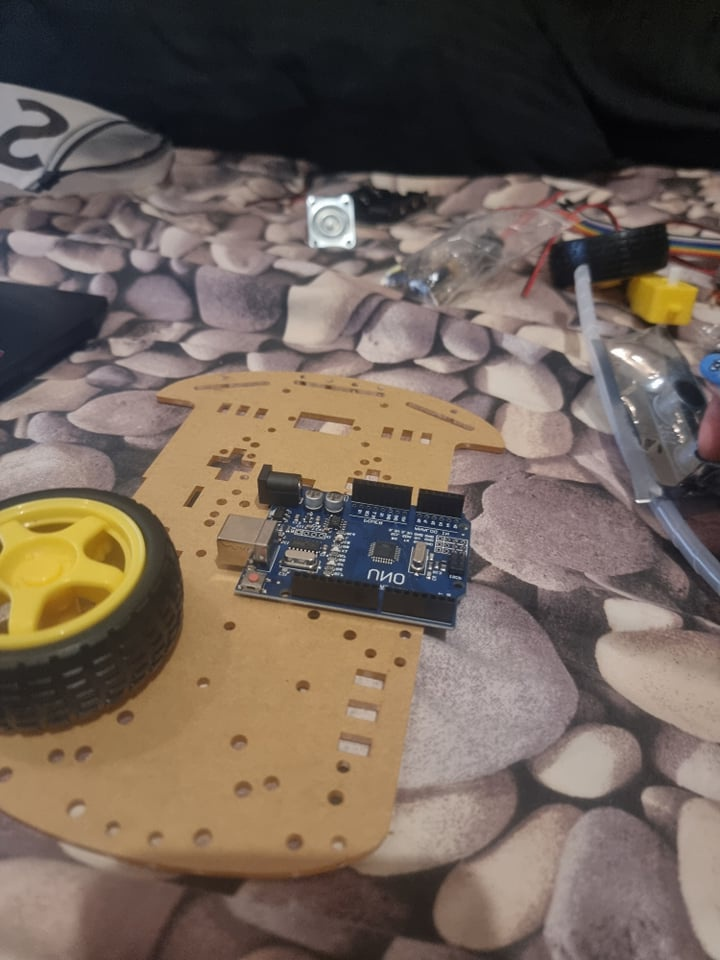BATTERY BOX: (349, 180, 437, 227)
UNO R3: (215, 466, 490, 634)
